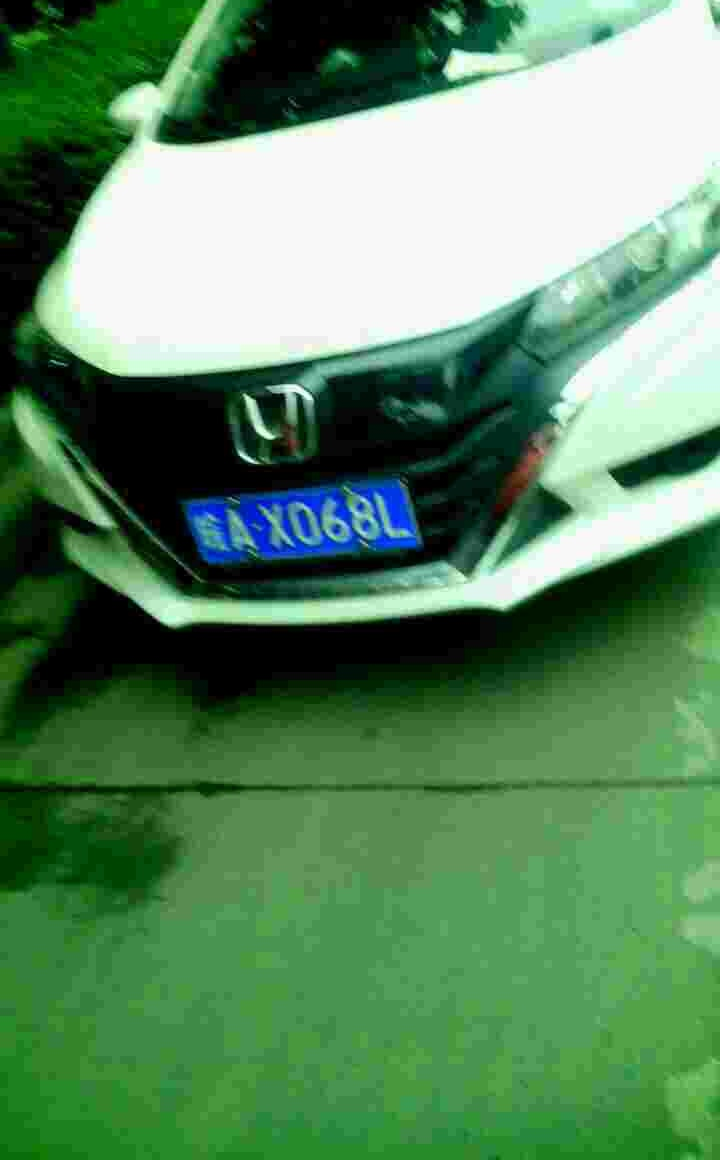plate: (177, 475, 431, 570)
